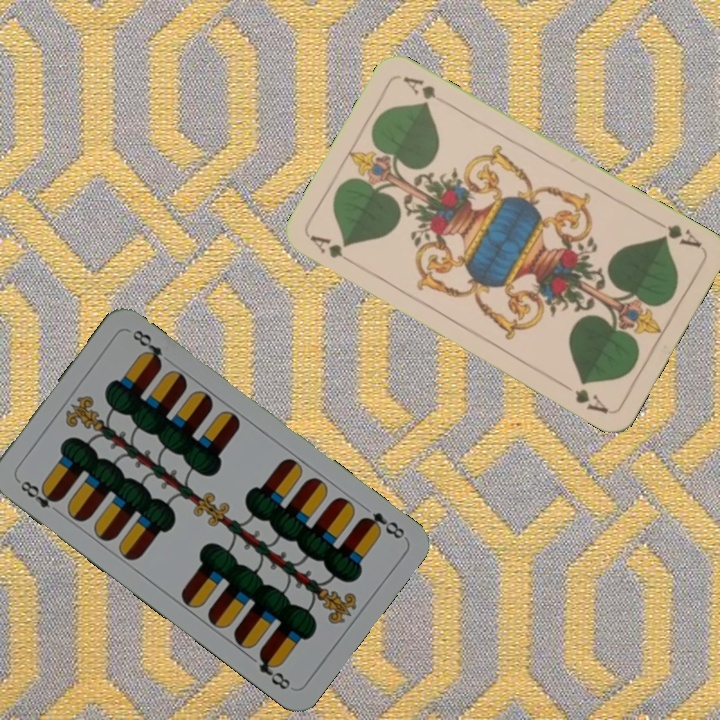E8: (13, 475, 63, 517), (356, 507, 408, 542)
GA: (306, 231, 360, 269), (649, 215, 705, 251)
